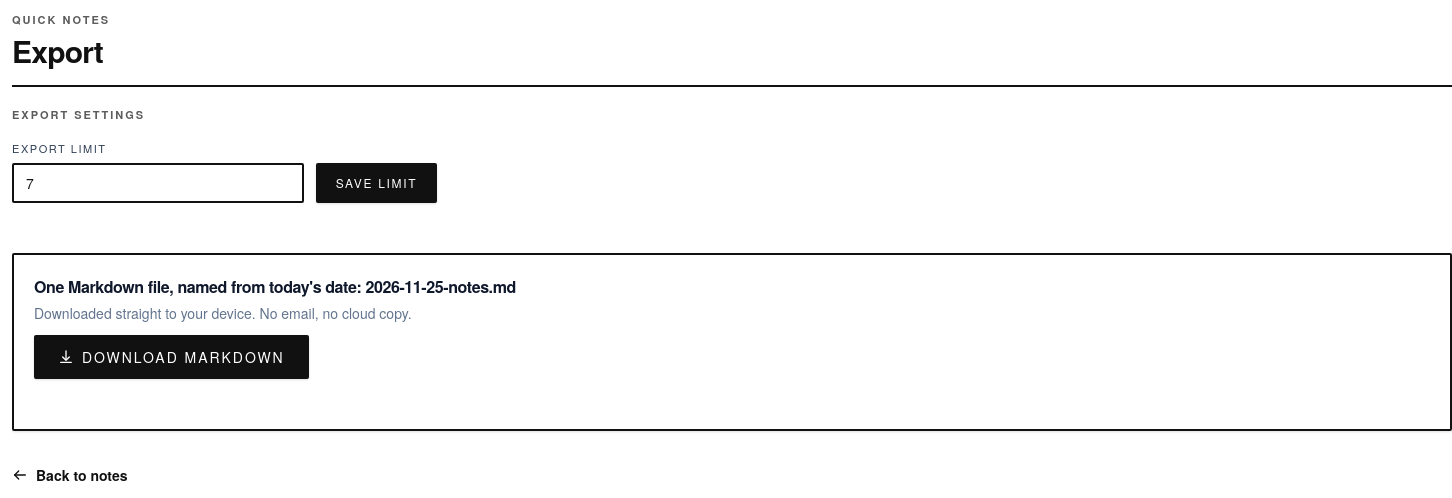
Test case: Export screen — export-limit setting › [AC-020] views and saves the export limit with no sign-in in place
The image size is (1452, 498).
Step 1. Replace the text in the field showing "7" with "9" → (158, 183), box 12,163 -> 304,203
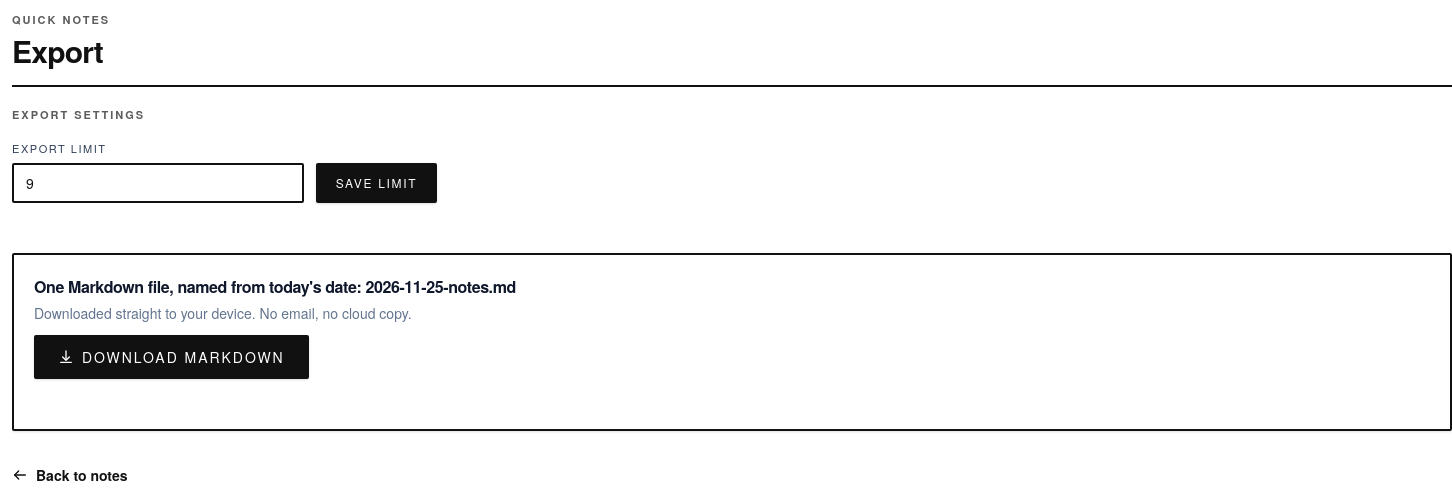
Step 2. Click the button with test id "save-limit-btn" → (376, 183), box 316,163 -> 437,203
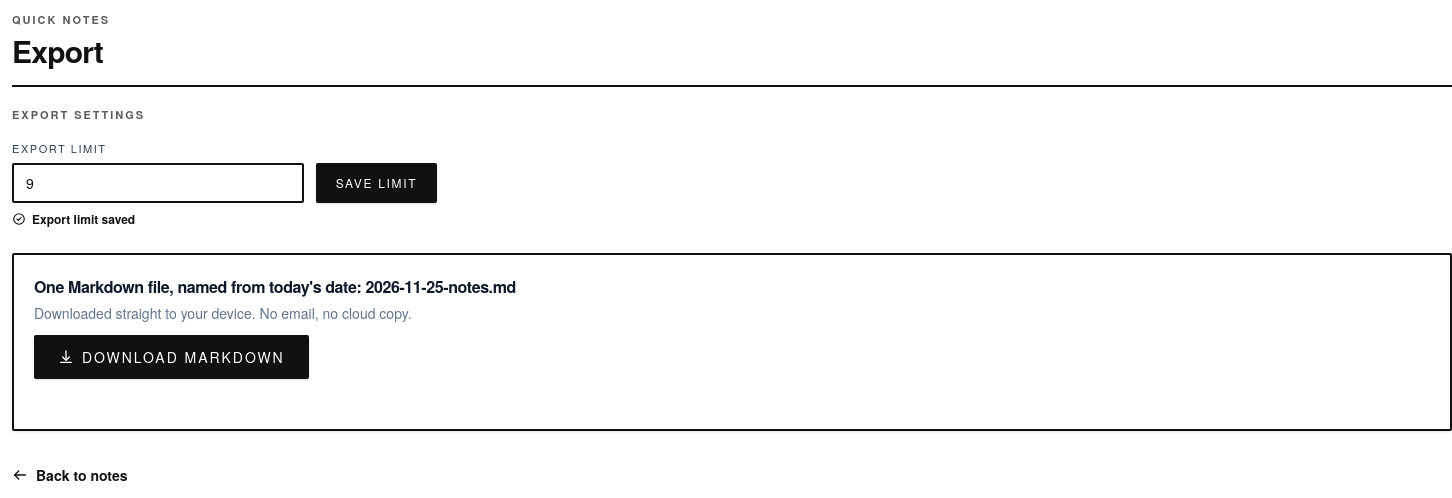
Expected: the text "Export limit saved" is shown, 12,211 -> 135,227
